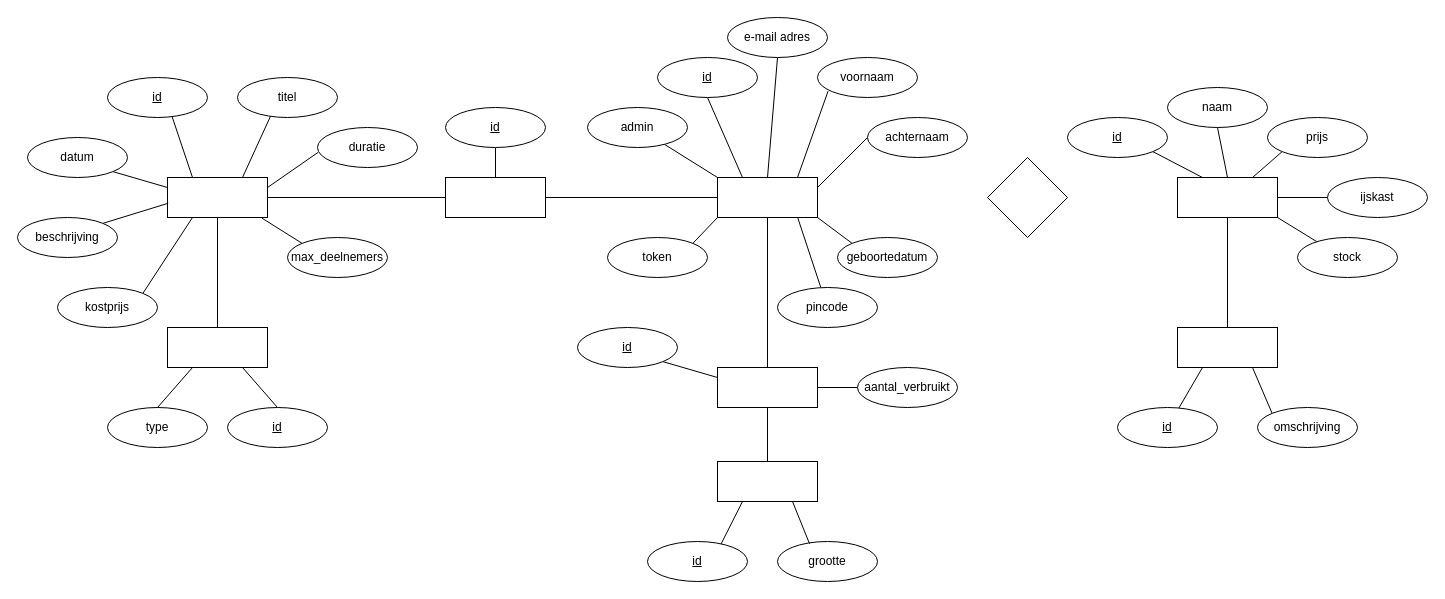
The diagram is 1445 pixels wide and 599 high, and some of its shapes have lost their labels. The shapes that lost their labels are listed below. From the top down, each one's box as (x1, y1, x2, y2) in pixels, then its label:
(166, 176, 268, 218): Evenement
(444, 176, 546, 218): Inschrijving
(716, 176, 818, 218): User
(1176, 176, 1278, 218): Product
(166, 326, 268, 368): EvenementType
(1176, 326, 1278, 368): Categorie
(716, 366, 818, 408): Drankkaart
(716, 460, 818, 502): DrankkaartType
